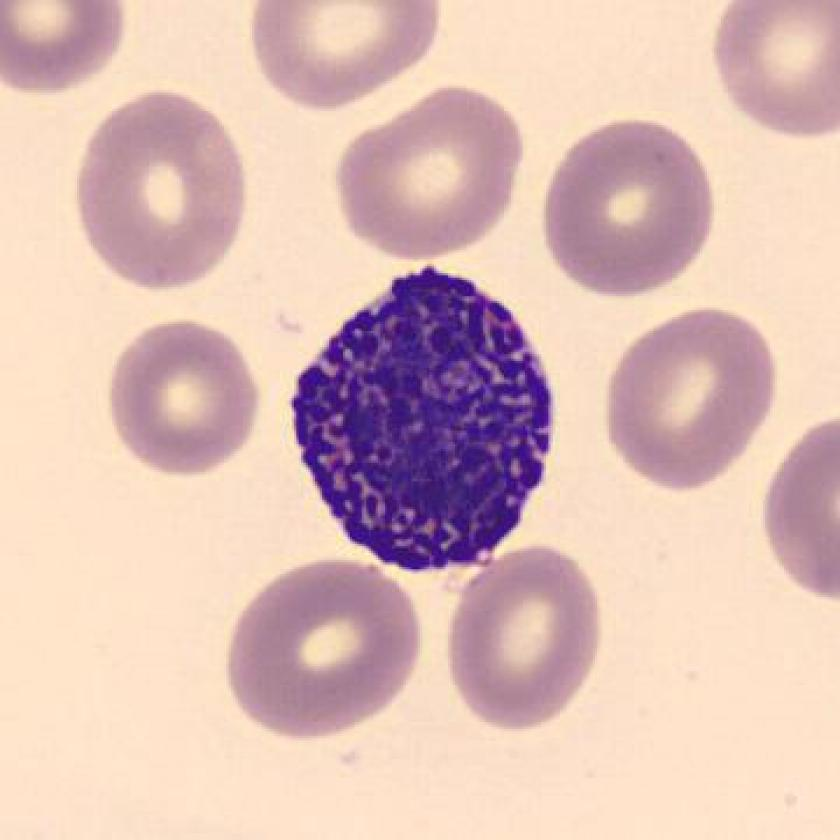basophil: (288, 256, 570, 580)
